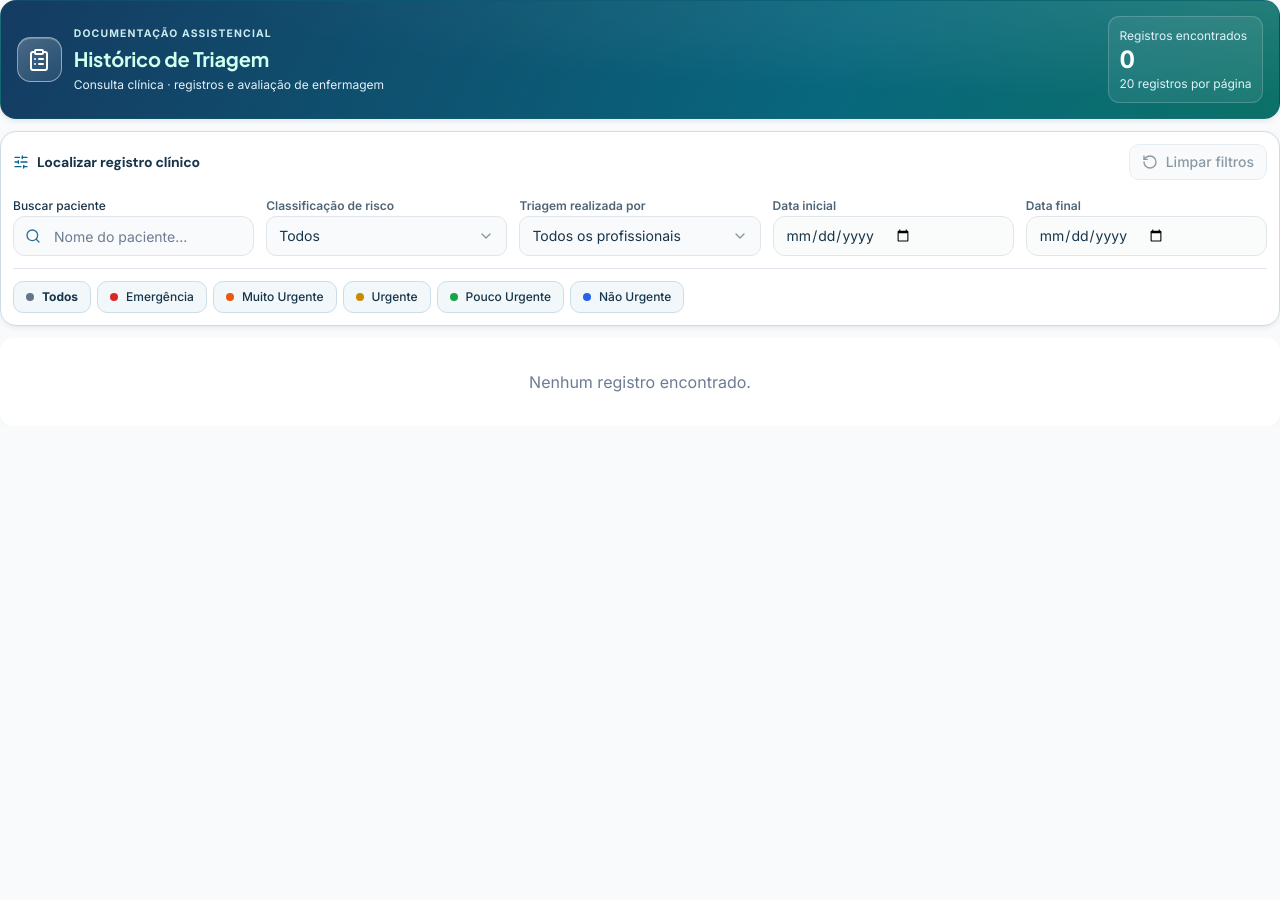
Scenario: Histórico de Triagem: carregamento, erro e vazio › pagina os resultados sem repetir a pesquisa por nome
The width and height of the screenshot is (1280, 900).
Expected: the text "Nenhum registro encontrado." is shown, 529,372 -> 751,392
In the field with placeholder "Nome do paciente...": (134, 236) 13,216 -> 254,256, type "Paciente"
(page scrolled)
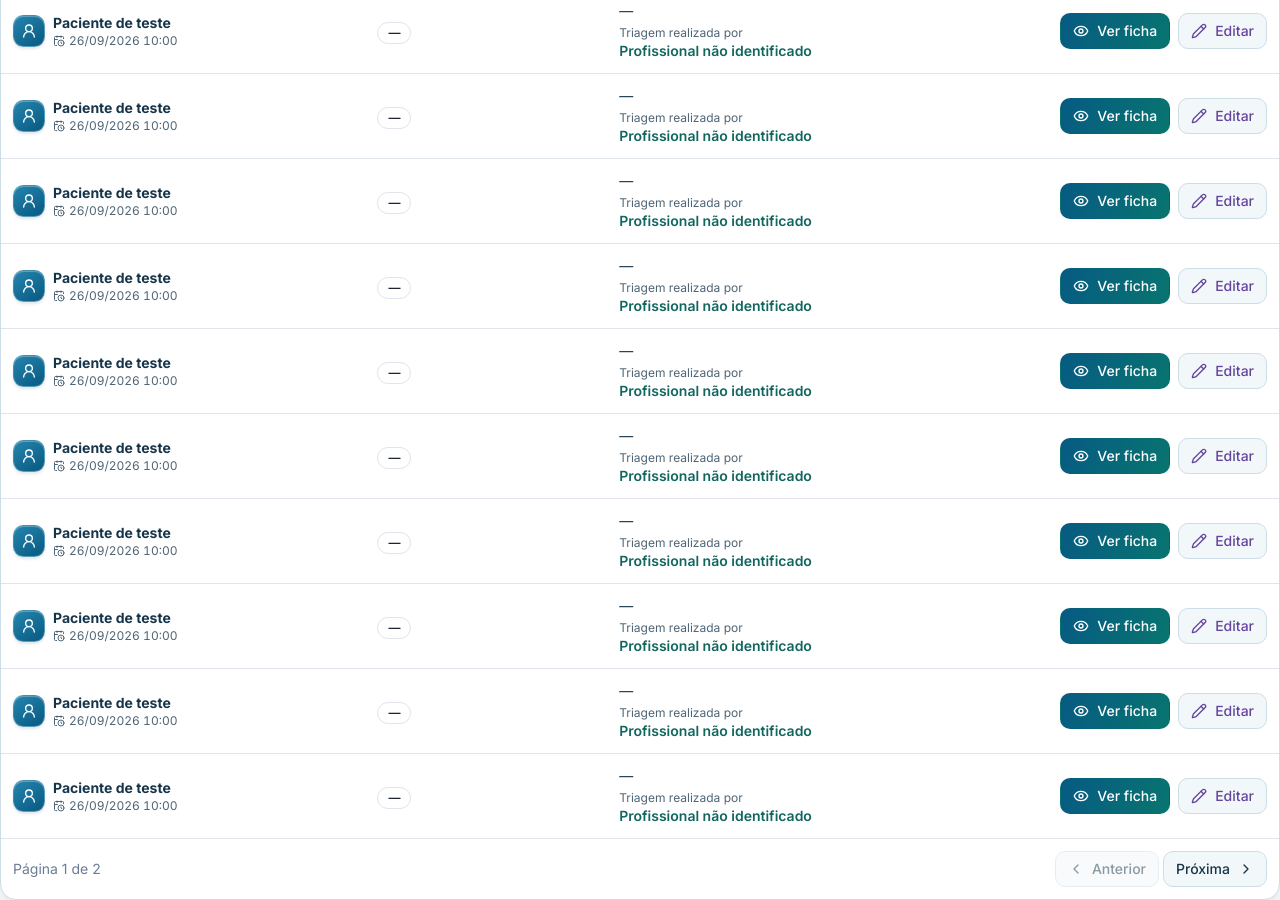
Result: the text "Página 1 de 2" is shown at 13,859 -> 101,879
Click the button "Próxima": (1215, 869) 1163,851 -> 1267,887
(page scrolled)
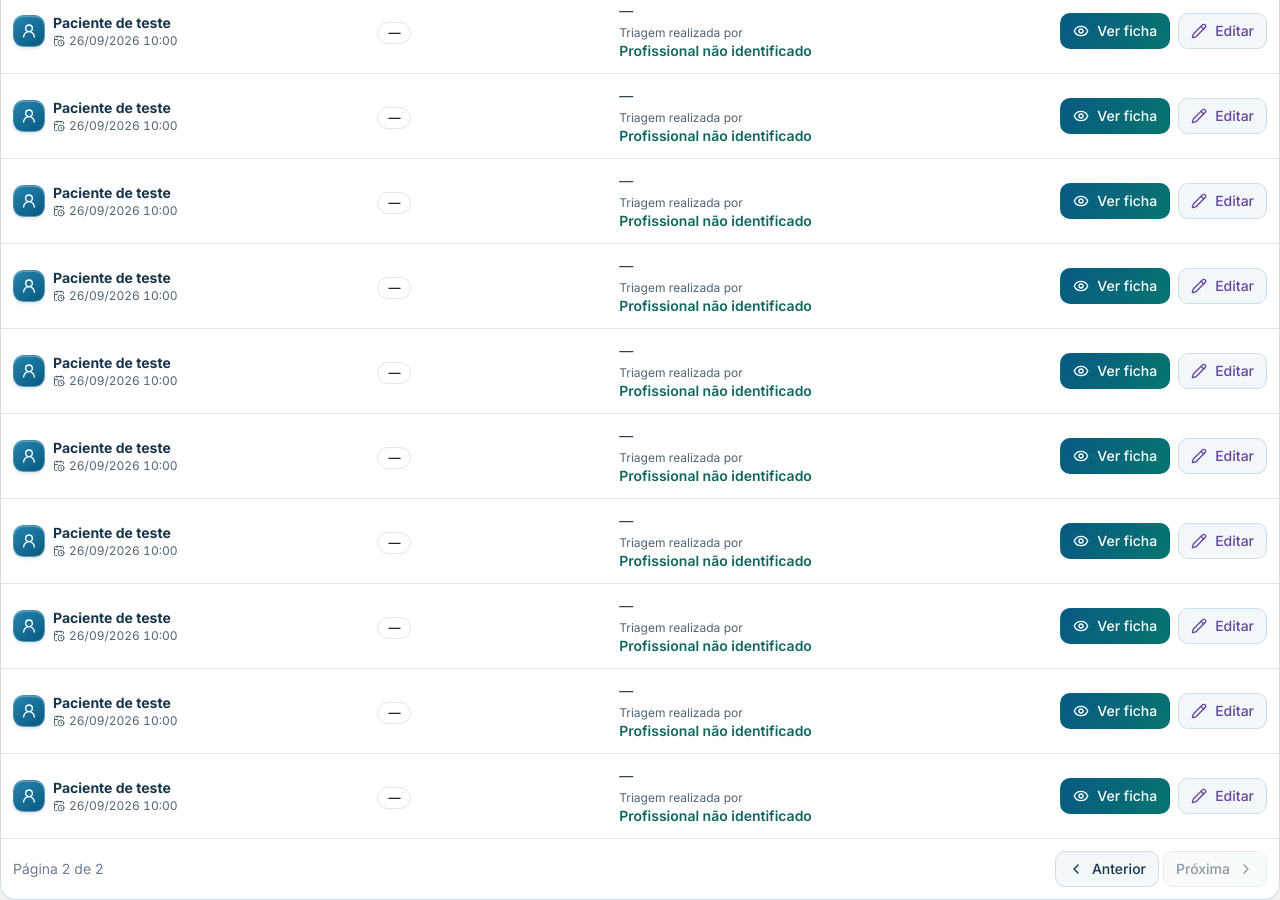
Result: the text "Página 2 de 2" is shown at 13,859 -> 104,879
